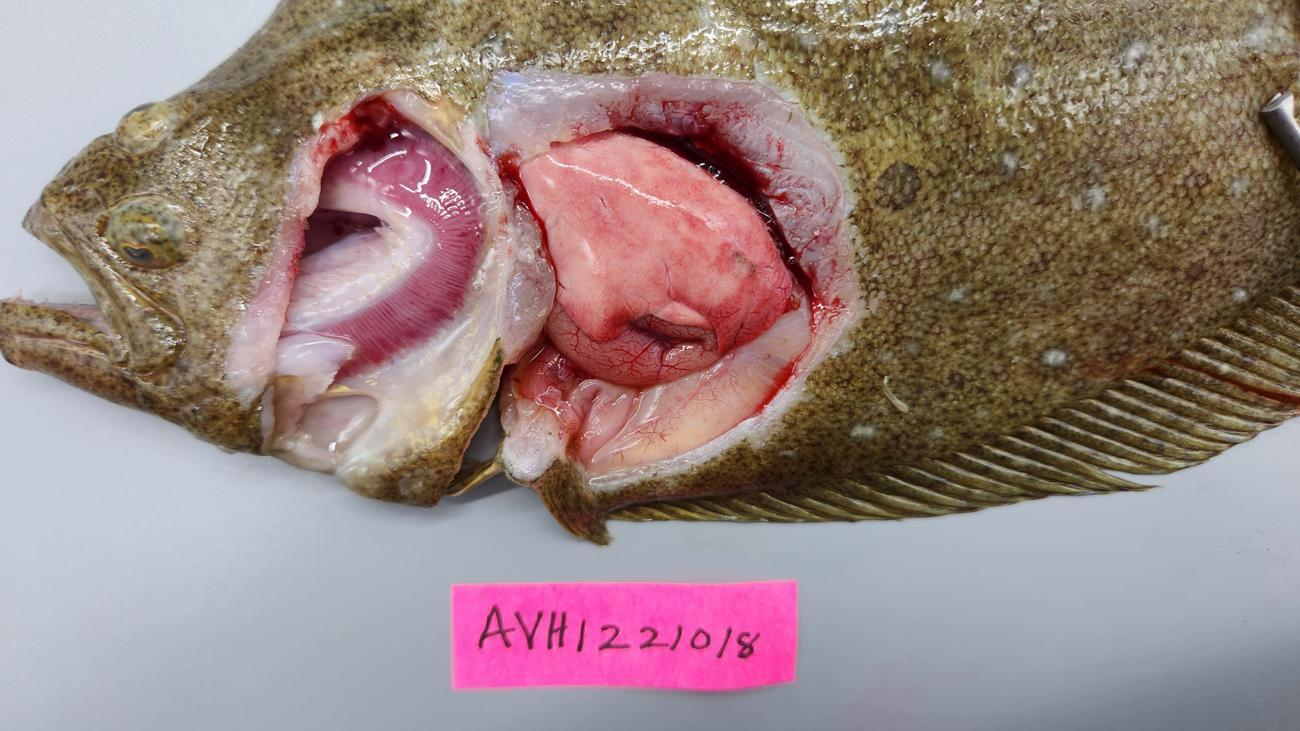VILII: (520, 131, 792, 353)
